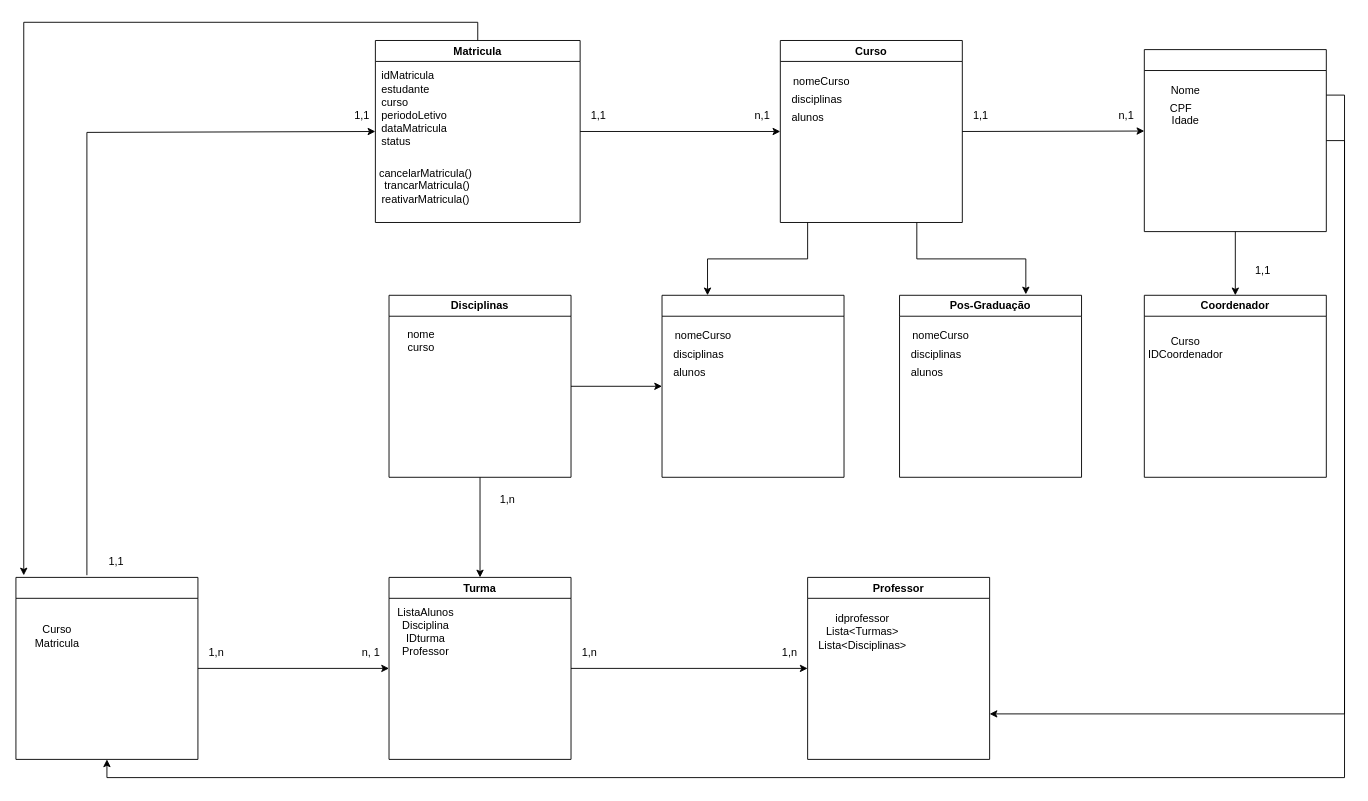
Some shapes in this 1368 by 801 pixel diagram are drawn without their labels. Here are the shapes that lost their labels. From the top down, the box of each, then its label:
(1143, 49, 1326, 232): Pessoa
(661, 294, 844, 477): Graduação
(15, 576, 198, 759): Aluno
